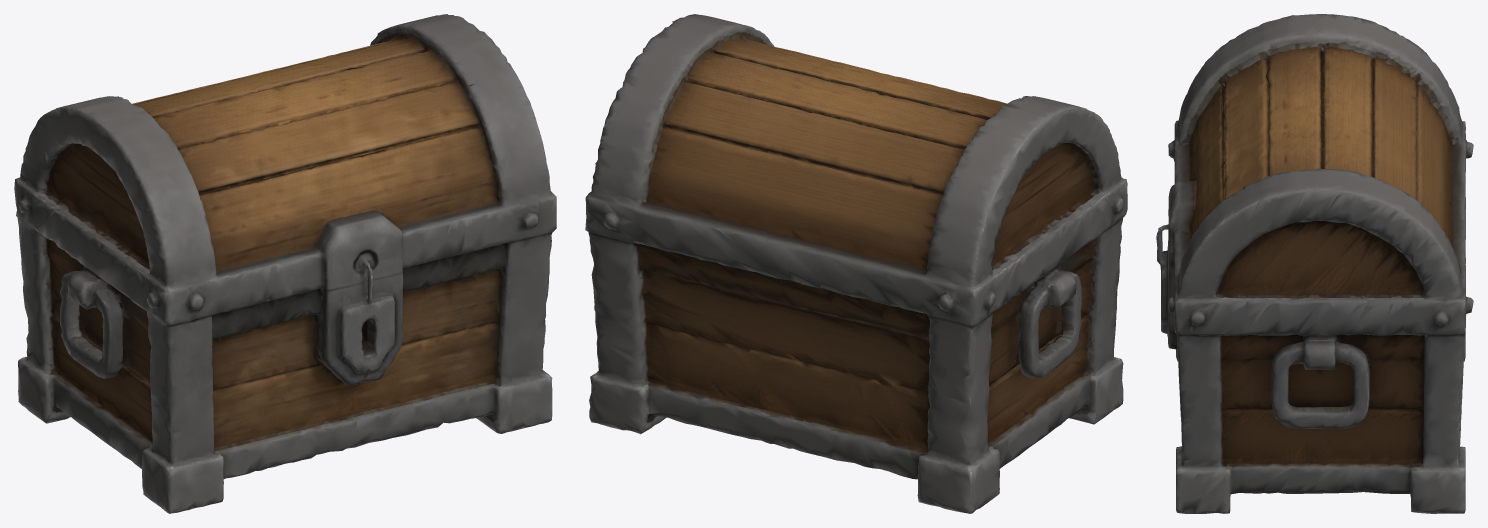
Rendered from chest.glb.
3 renders of one model, left to right at view 1: azimuth 30°, elevation 25°; view 2: azimuth 150°, elevation 25°; view 3: azimuth 270°, elevation 25°, orthographic. The views are drawn at different scales.
Parts seen in each view (by area): view 1: world; view 2: world; view 3: world.
Part boxes in pixels (x1,y1,x2,y2): world: (14, 14, 556, 513); world: (585, 14, 1127, 513); world: (1156, 14, 1473, 513).
Bounding box in the file's own units: 1.91 × 1.47 × 1.3.
1 material, 1 textured.
